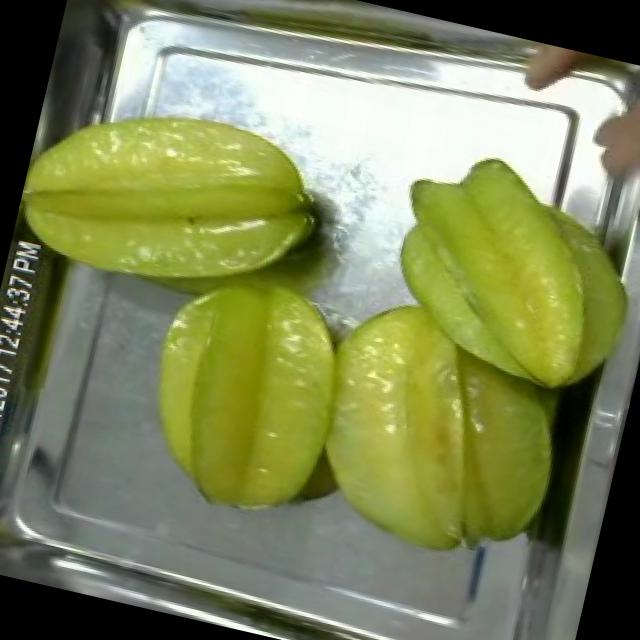fruit: (274, 266, 601, 592), (6, 70, 352, 340), (356, 125, 640, 421), (114, 238, 374, 542)
